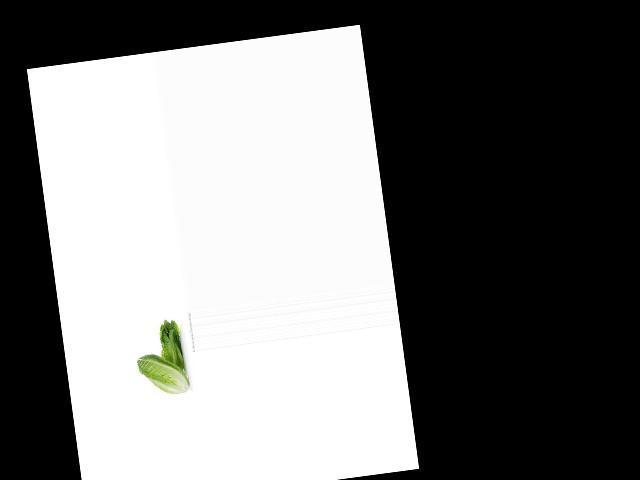lettuce: (152, 317, 191, 372)
